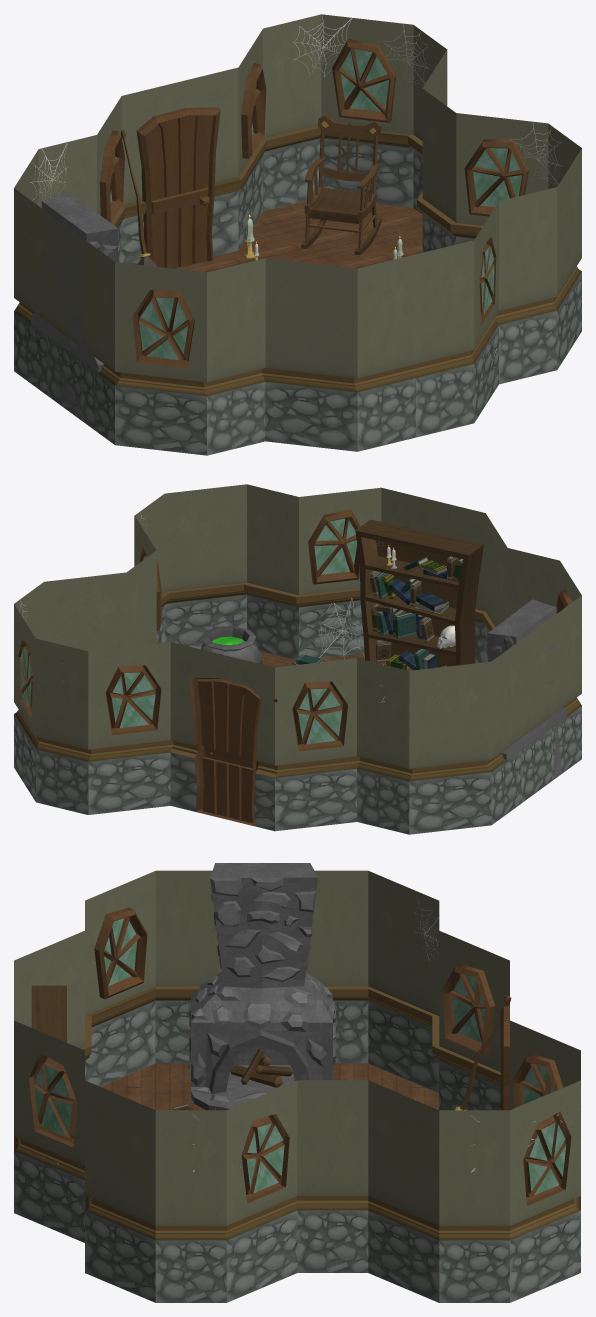
File: Environment_Scene.obj
3 views of the same model, one above another, from view 1: azimuth 30°, elevation 25°; view 2: azimuth 150°, elevation 25°; view 3: azimuth 270°, elevation 25° (orthographic). The views are drawn at different scales.
Parts seen in each view (by area): view 1: Door, Wall_Low_B, Window_Low_C1, Window_Low_C2, Wall_Low_A1, Wall_Low_A2, Wall_Low_A3, Wall_Low_A, Wall_Low_A8, Window_Low_B3, FirePlace_High1, Wall_Low_A6 (+24 smaller); view 2: Door, Window_Low_B2, Wall_Low_C, Window_Low_B, pPlane58, Window_Low_B1, Bookshelf, Wall_Low_A7, Wall_Low_A8, Wall_Low_A, Wall_Low_B1, Wall_Low_A6 (+16 smaller); view 3: FirePlace_High1, Wall_Low_B1, Window_Low_B3, Wall_Low_A10, Wall_Low_A11, Wall_Low_A9, pPlane58, Window_Low_B1, Window_Low_C2, Wall_Low_C, Window_Low_C1, Window_Low_B (+12 smaller).
Boxes of the visible parts, x1,y1,x2,y2 form: Door: (121,67,241,268); Wall_Low_B: (262,258,357,451); Window_Low_C1: (115,262,206,455); Window_Low_C2: (321,14,413,207); Wall_Low_A1: (412,240,474,437); Wall_Low_A2: (354,254,415,451); Wall_Low_A3: (204,258,265,455); Wall_Low_A: (496,187,557,384); Wall_Low_A8: (263,14,321,211); Window_Low_B3: (450,113,548,244); FirePlace_High1: (31,191,118,432); Wall_Low_A6: (14,188,47,395); Door: (170,642,277,831); Window_Low_B2: (88,642,173,814); Wall_Low_C: (409,661,491,834); Window_Low_B: (275,658,359,831); pPlane58: (164,484,246,649); Window_Low_B1: (296,487,381,658); Bookshelf: (355,519,483,670); Wall_Low_A7: (357,658,412,834); Wall_Low_A8: (36,638,90,814); Wall_Low_A: (244,484,298,659); Wall_Low_B1: (44,572,126,651); Wall_Low_A6: (486,640,521,824); FirePlace_High1: (188,863,335,1110); Wall_Low_B1: (368,1080,439,1302); Window_Low_B3: (226,1080,297,1302); Wall_Low_A10: (297,1080,368,1272); Wall_Low_A11: (155,1110,226,1302); Wall_Low_A9: (439,1110,509,1302); pPlane58: (85,1080,155,1302); Window_Low_B1: (14,1020,84,1242); Window_Low_C2: (510,1080,580,1302); Wall_Low_C: (368,871,439,1092); Window_Low_C1: (85,871,155,1086); Window_Low_B: (432,931,509,1110).
Size of the model in its own units: 8.03 by 3.19 by 8.02.
